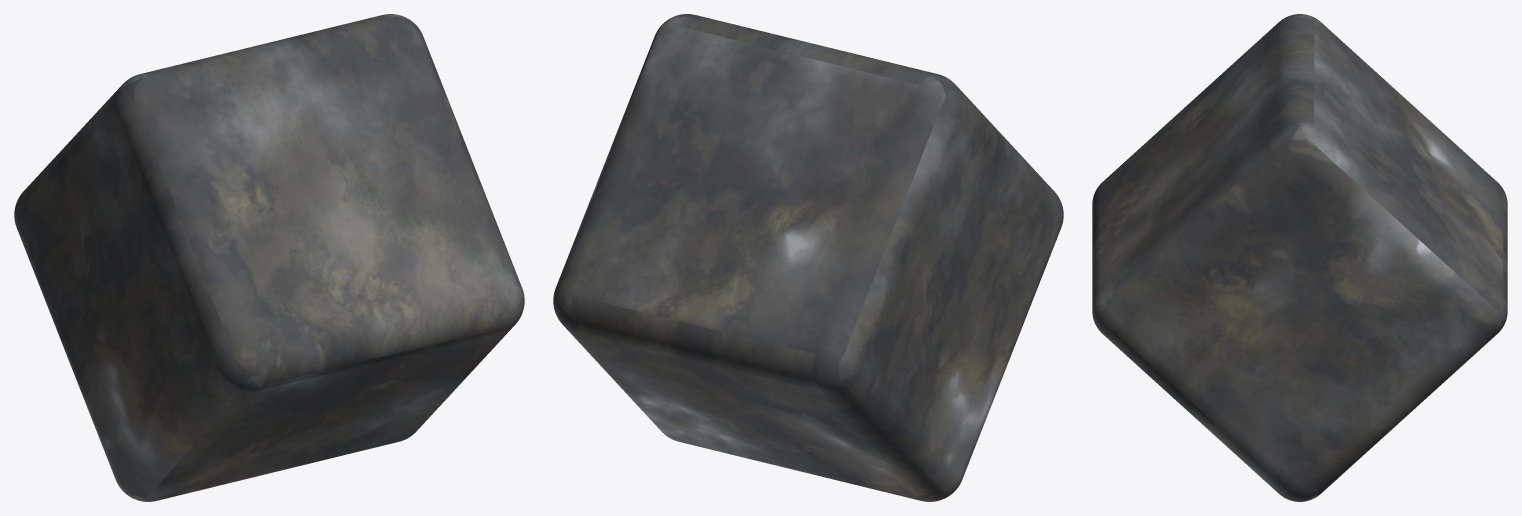
3 renders of one model, left to right at view 1: azimuth 30°, elevation 25°; view 2: azimuth 150°, elevation 25°; view 3: azimuth 270°, elevation 25°, orthographic. The views are drawn at different scales.
Visible parts, largest first — view 1: Cube; view 2: Cube; view 3: Cube.
Part boxes in pixels (x1,y1,x2,y2): Cube: (14, 14, 524, 501); Cube: (553, 14, 1063, 501); Cube: (1092, 14, 1507, 501).
Size of the model in its own units: 0.03 by 0.0399 by 0.0399.
Materials: 1 (1 with a texture image).
